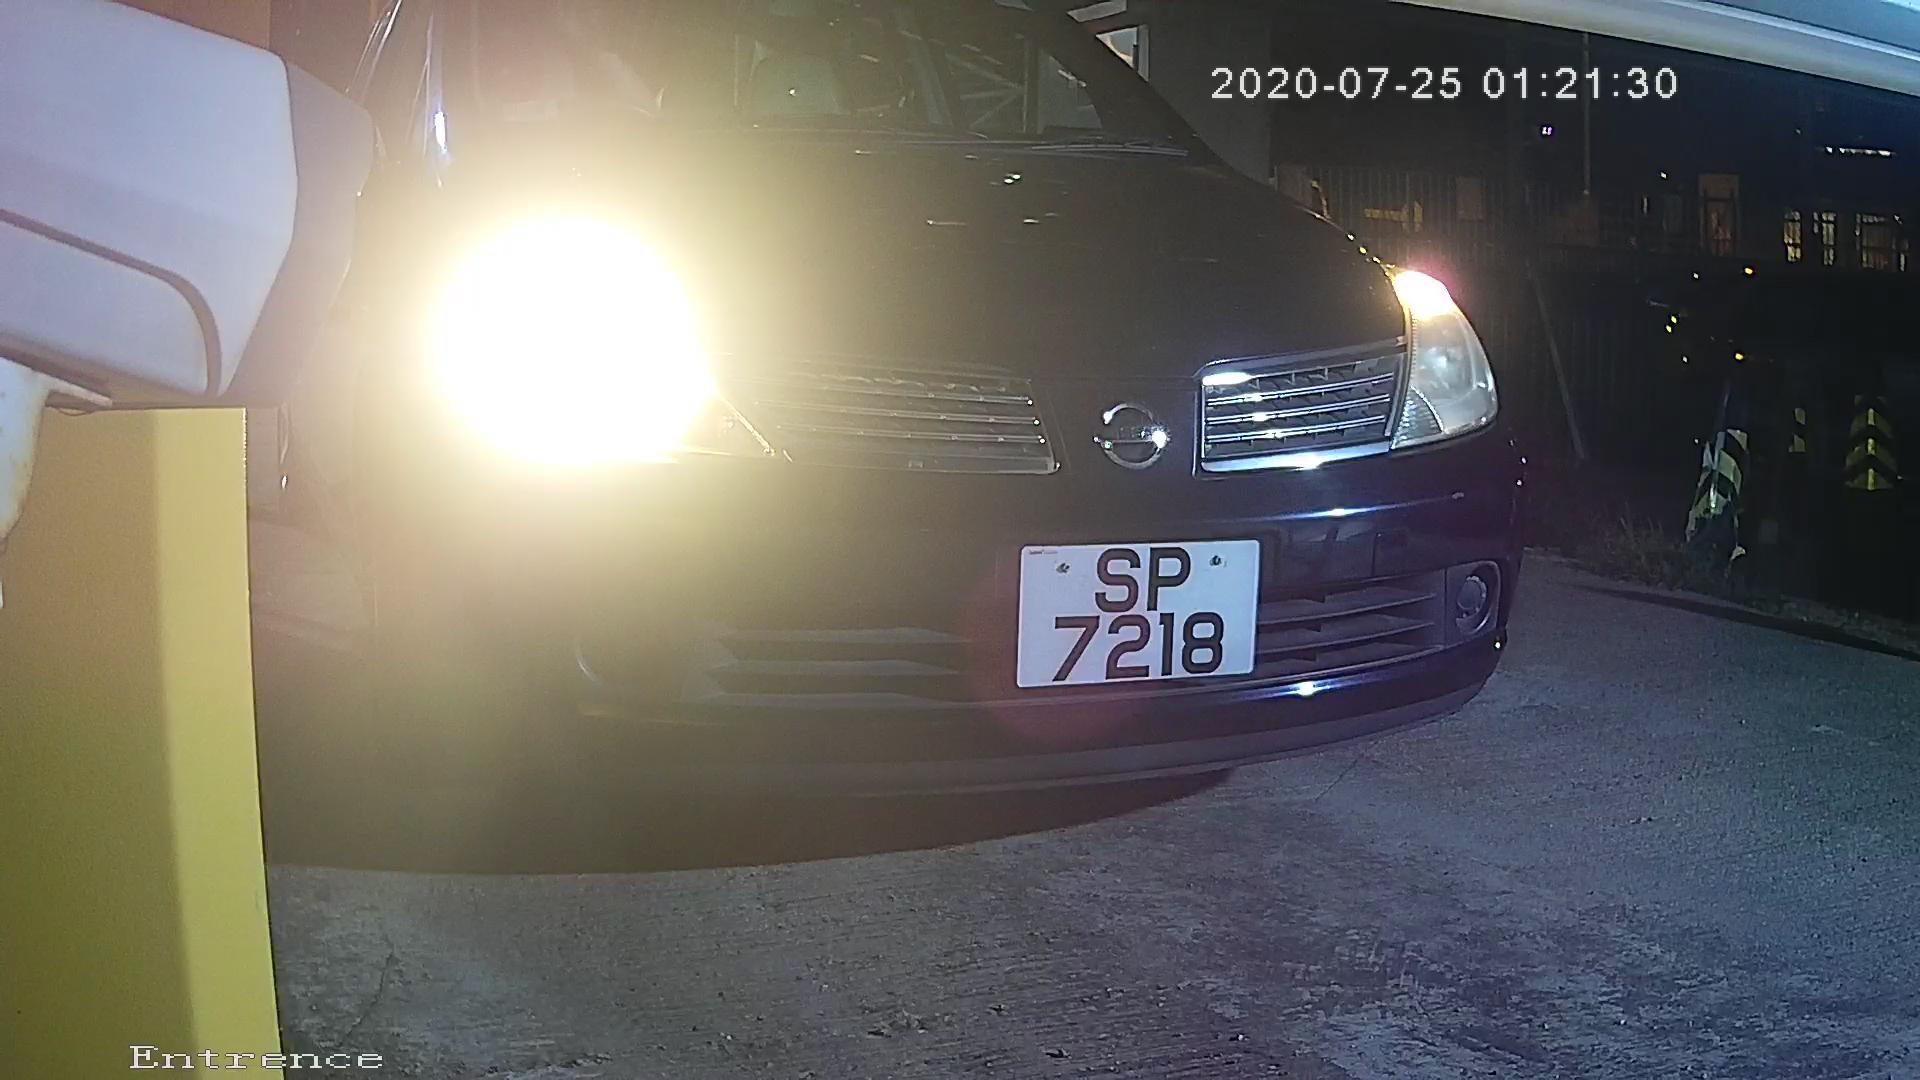License Plate: (986, 526, 1286, 709)
